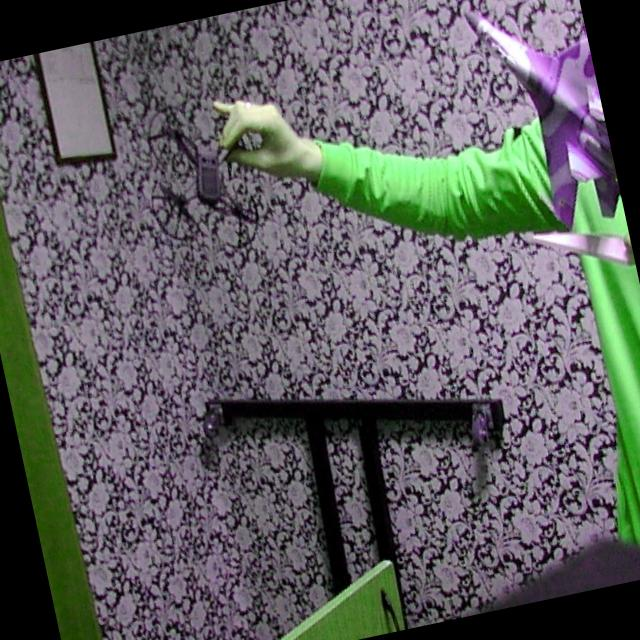drone: (125, 69, 280, 268)
